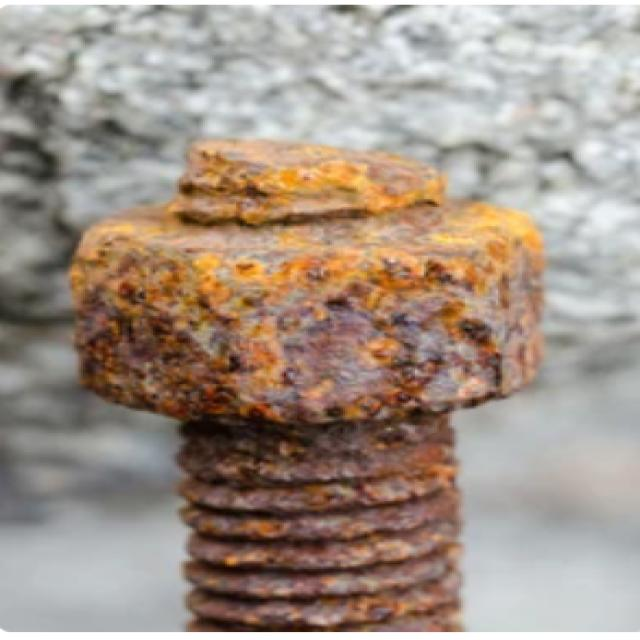corrosion: (37, 120, 555, 635)
